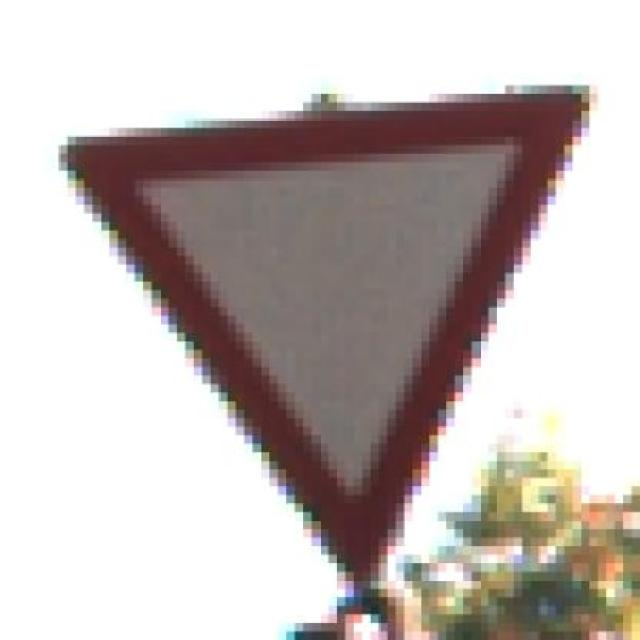Give Way: (55, 64, 603, 593)
